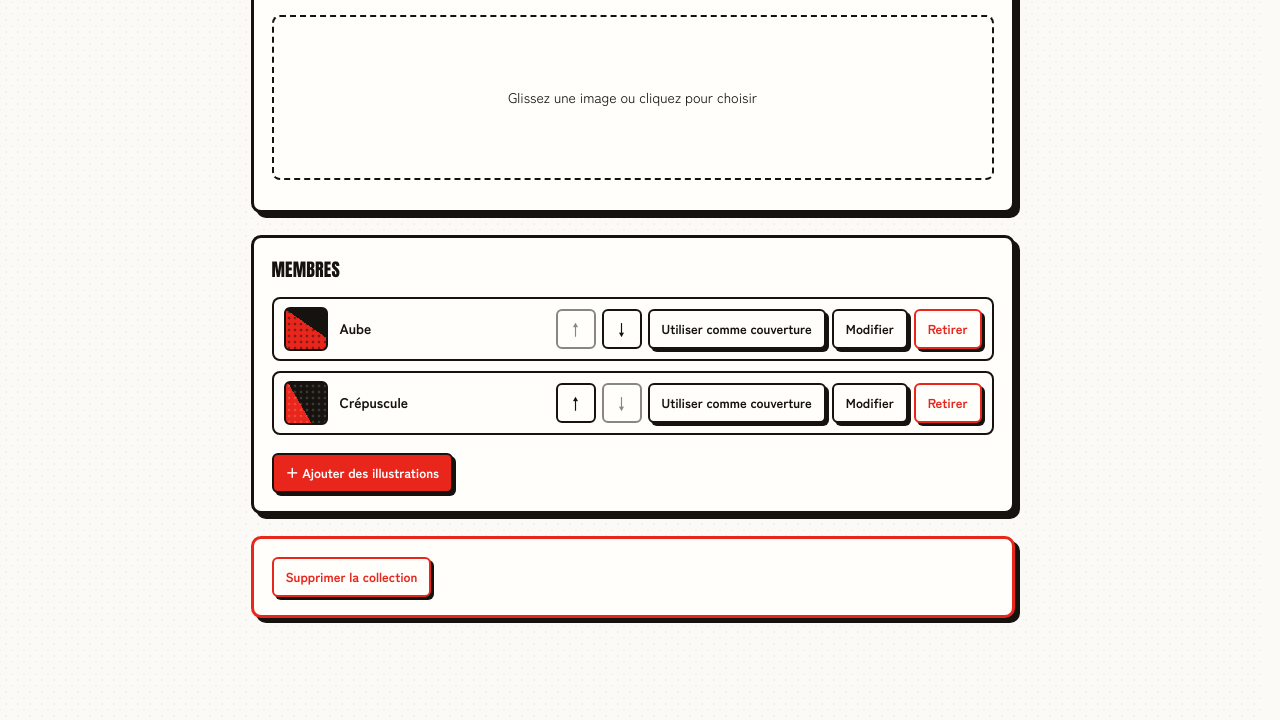
ManageCollectionClient (DR-12 V4) › opens the "＋ Ajouter des illustrations" picker (inline add rows removed, DR-12 iter2 FE-11)
(page scrolled)
What coordinates should you click on to do the following:
click the button "＋ Ajouter des illustrations"
I would click on:
 (362, 472)
Its box is [272,452,453,492].
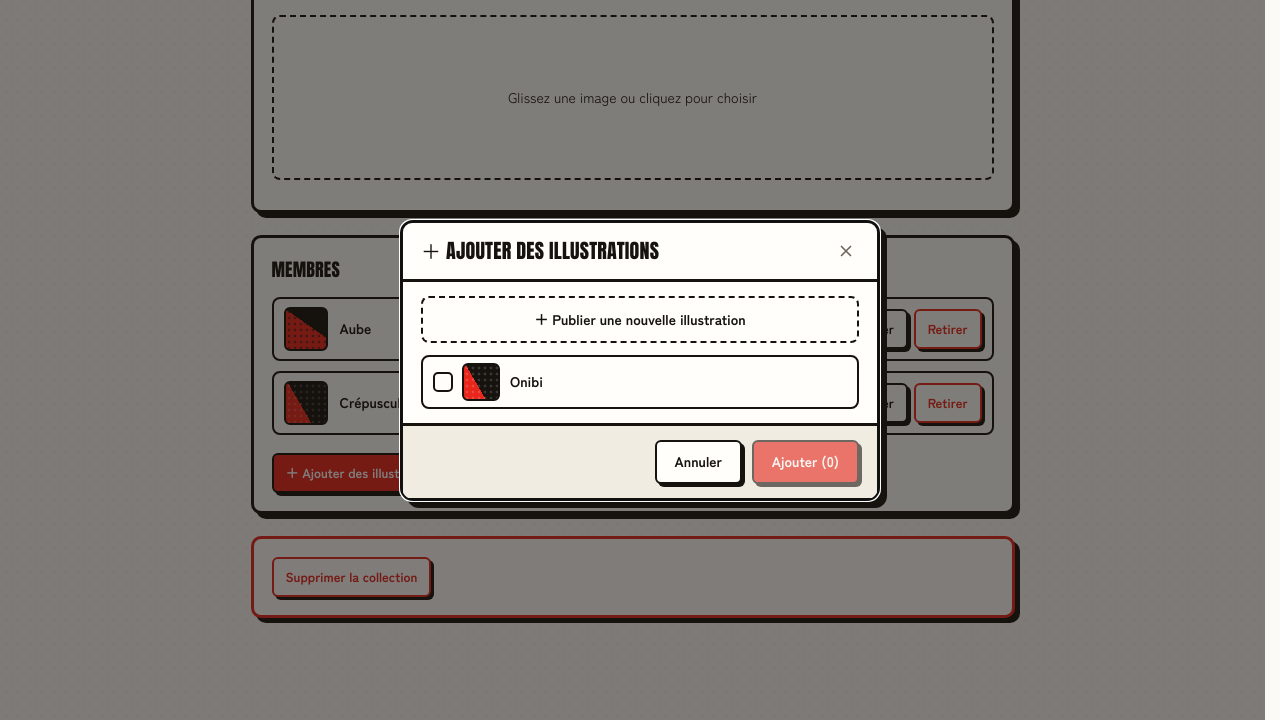
Now the dialog is shown, box [400,220,880,500]
Now the text "Onibi" is shown, box [510,371,543,392]
